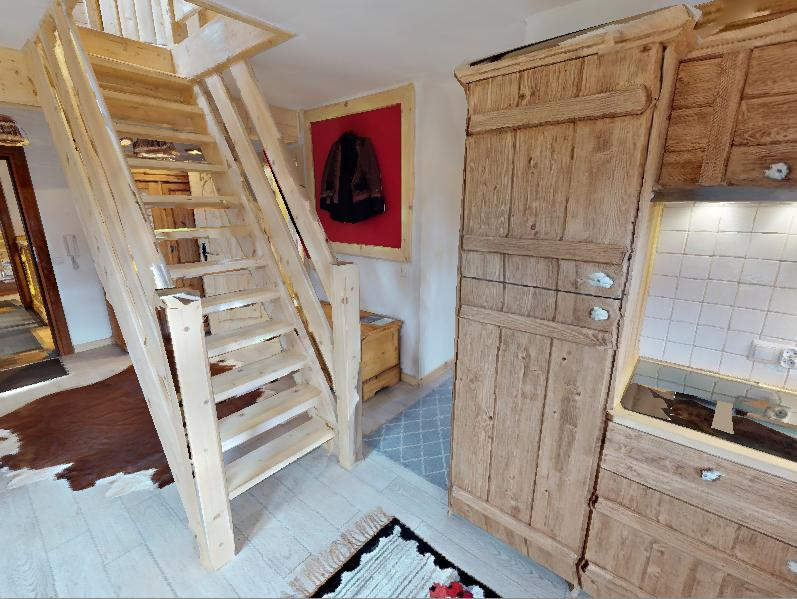stairs: (42, 0, 401, 554)
